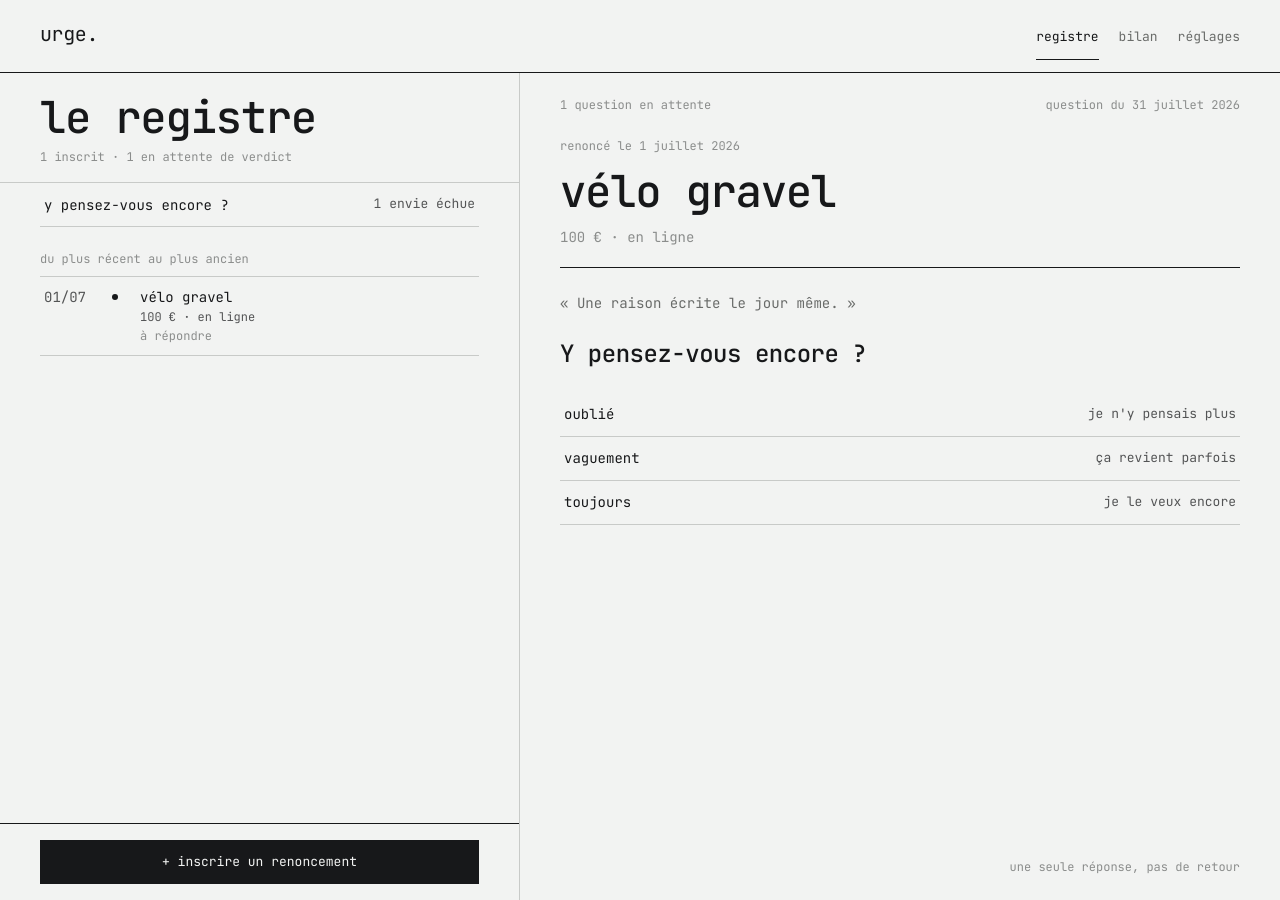
Test: répondre › ne repose jamais une question déjà répondue
Step 1. Click the button "y pensez-vous encore ? 1 envie échue" → (136, 205), box [40,183,479,227]
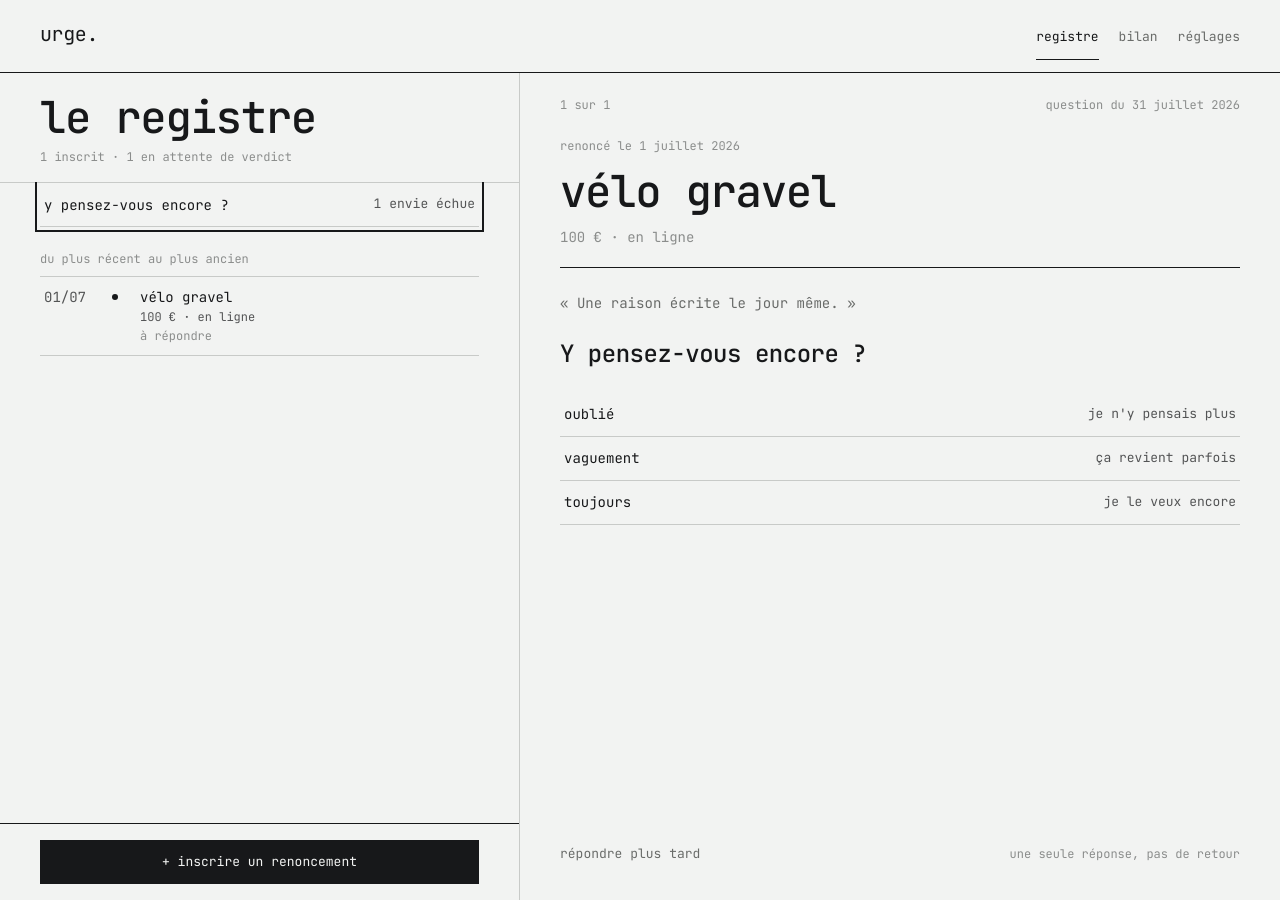
Step 2. Click the button with aria-label "vélo gravel : oublié" → (589, 414), box [560,393,1240,437]
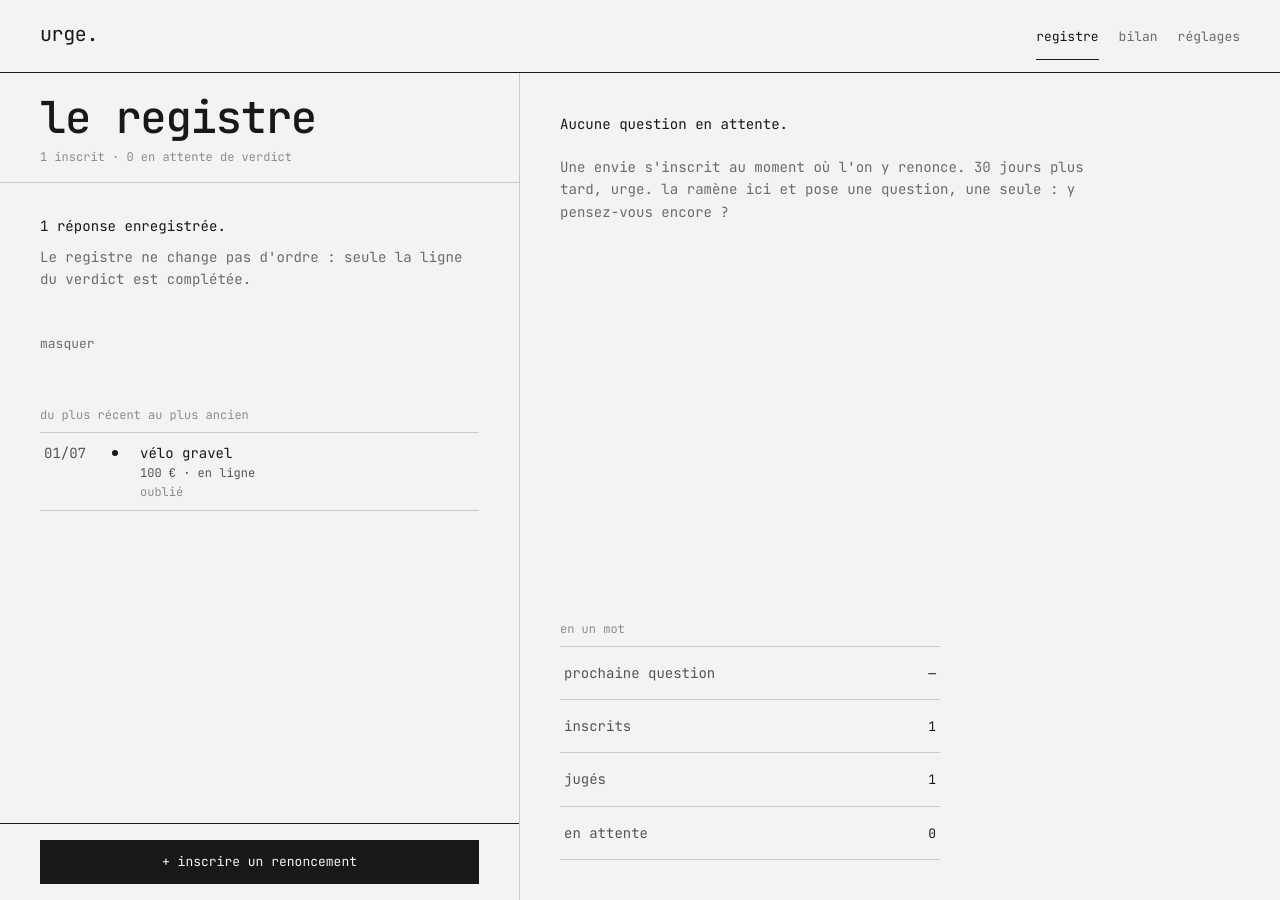
Now the button "envie échue" is gone
